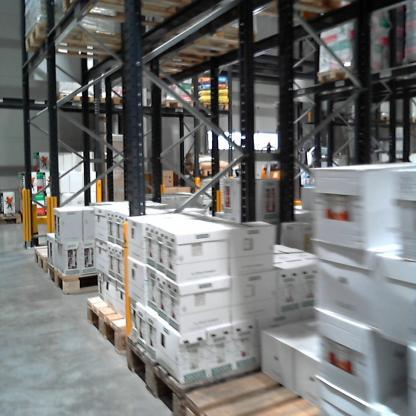pallets: (125, 338, 204, 415), (74, 289, 133, 366), (31, 246, 100, 295)
